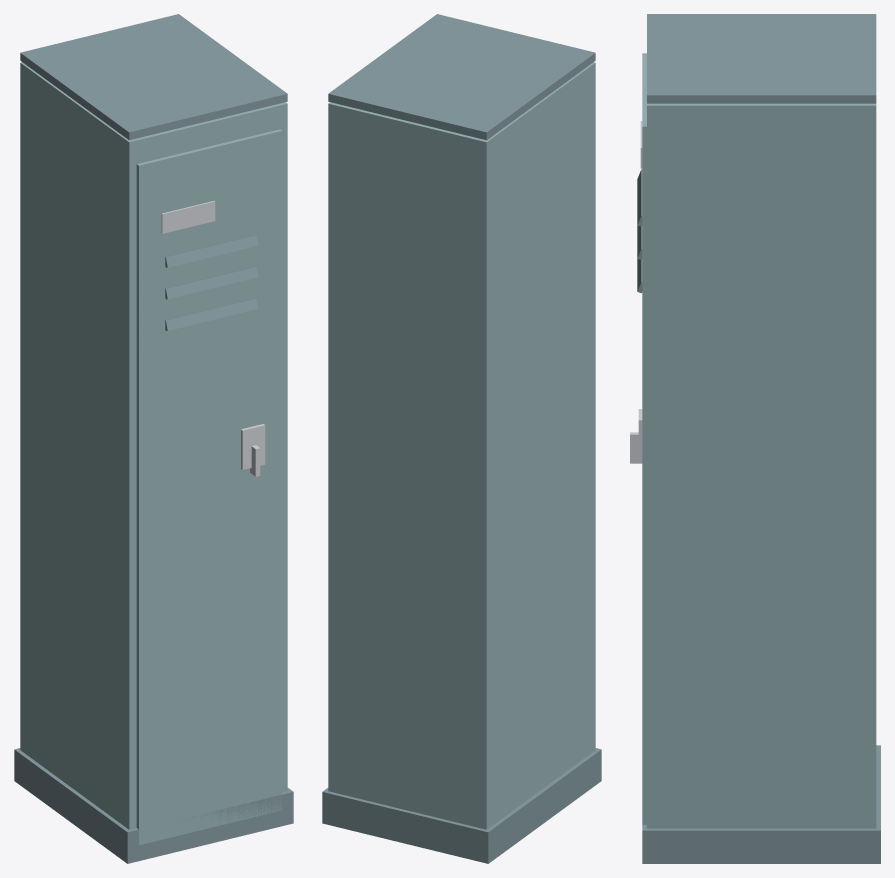
Rendered from container_locker.glb.
3 views of the same model, side by side, from view 1: azimuth 30°, elevation 25°; view 2: azimuth 150°, elevation 25°; view 3: azimuth 270°, elevation 25° (orthographic). The views are drawn at different scales.
Visible parts, largest first — view 1: Clk_Door, Clk_Body, Clk_Cap1, Clk_Kick, Clk_NameSlot, Clk_Vent1, Clk_Vent2, Clk_Vent0, Clk_Plate; view 2: Clk_Body, Clk_Cap1, Clk_Kick; view 3: Clk_Body, Clk_Cap1, Clk_Kick, Clk_Door.
Part boxes in pixels (bbox=[...]): Clk_Door: bbox=[136, 129, 282, 845]; Clk_Body: bbox=[20, 62, 287, 829]; Clk_Cap1: bbox=[20, 14, 287, 140]; Clk_Kick: bbox=[14, 748, 293, 863]; Clk_NameSlot: bbox=[161, 200, 215, 233]; Clk_Vent1: bbox=[165, 266, 258, 299]; Clk_Vent2: bbox=[165, 298, 258, 330]; Clk_Vent0: bbox=[165, 235, 258, 267]; Clk_Plate: bbox=[241, 424, 265, 469]; Clk_Body: bbox=[328, 62, 595, 829]; Clk_Cap1: bbox=[328, 14, 595, 140]; Clk_Kick: bbox=[322, 748, 601, 863]; Clk_Body: bbox=[647, 103, 876, 828]; Clk_Cap1: bbox=[647, 14, 876, 103]; Clk_Kick: bbox=[642, 745, 880, 863]; Clk_Door: bbox=[642, 53, 646, 824].
Size of the model in its own units: 0.44 by 1.85 by 0.547.
